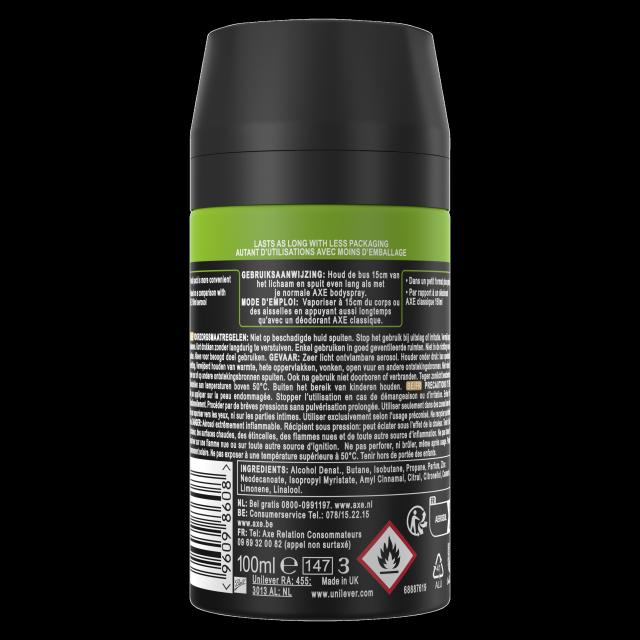GHS_Symbol_FLAME: (357, 518, 418, 596)
